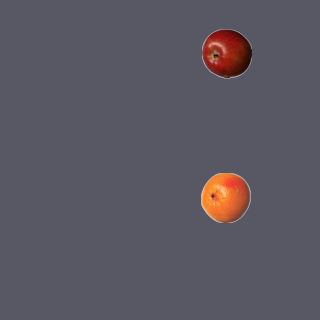Apple Braeburn: (201, 28, 251, 78)
Grapefruit Pink: (200, 172, 250, 222)
